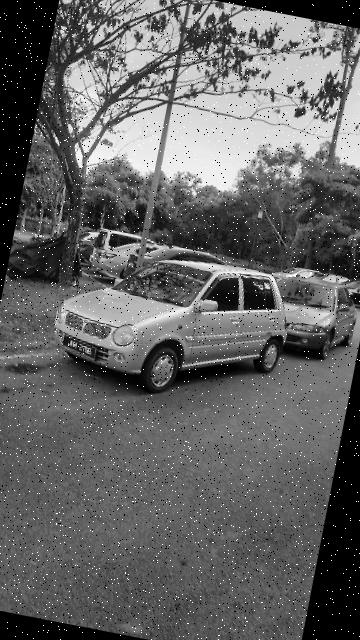License_Plate: (59, 334, 102, 365)
car: (46, 229, 300, 416)
